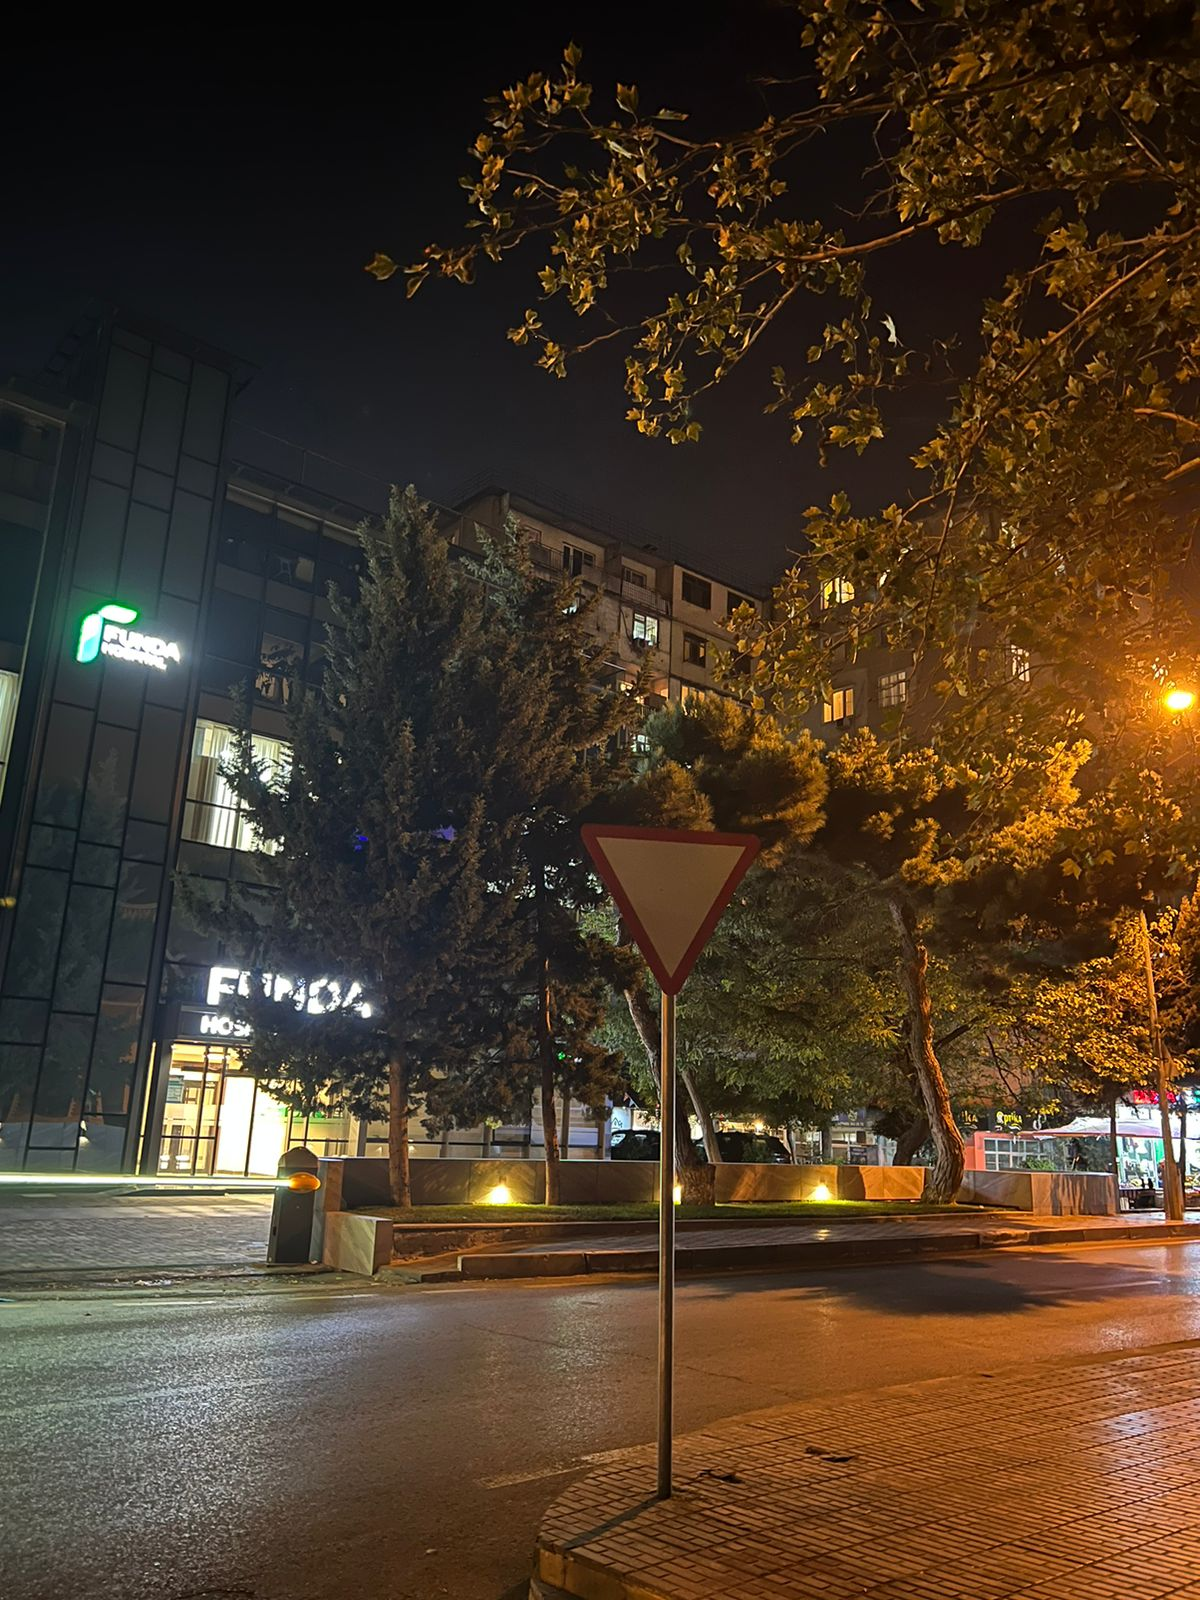Give Way: (577, 823, 761, 997)
